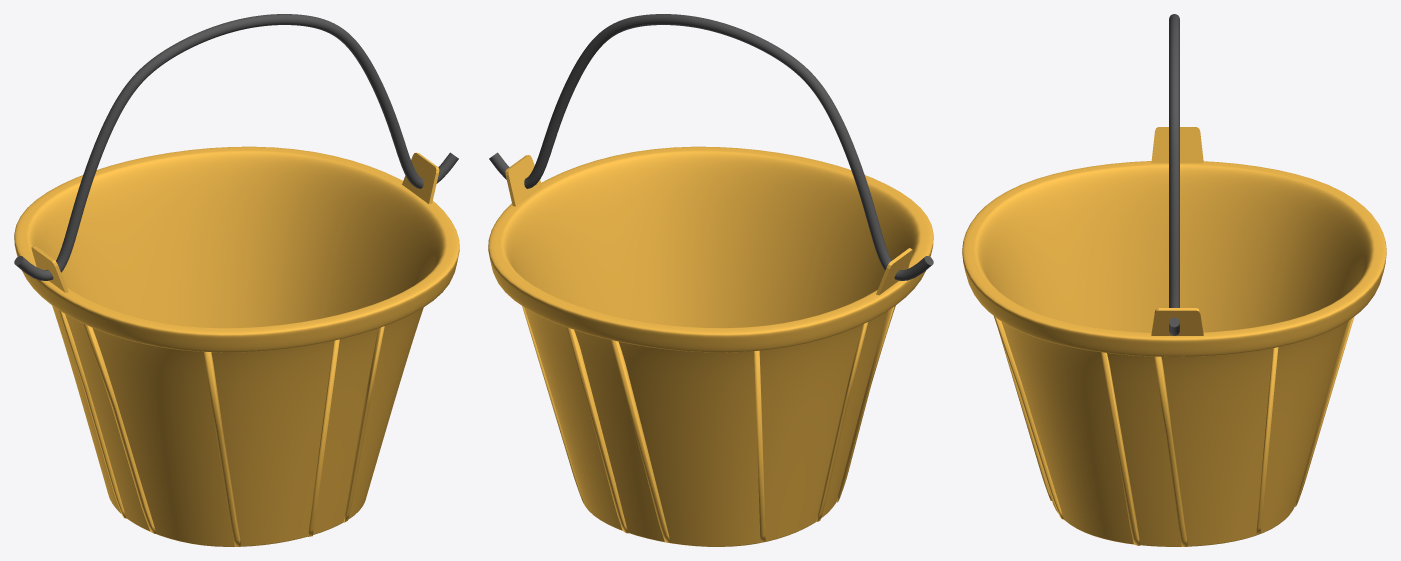
The model's file is construction_bucket.glb.
3 views of the same model, side by side, from view 1: azimuth 30°, elevation 25°; view 2: azimuth 150°, elevation 25°; view 3: azimuth 270°, elevation 25° (orthographic). The views are drawn at different scales.
Visible parts, largest first — view 1: Construction Bucket; view 2: Construction Bucket; view 3: Construction Bucket.
Boxes of the visible parts, x1,y1,x2,y2 form: Construction Bucket: (14, 14, 459, 546); Construction Bucket: (488, 14, 933, 546); Construction Bucket: (962, 14, 1386, 546).
Bounding box in the file's own units: 3.73 × 3.83 × 3.18.
